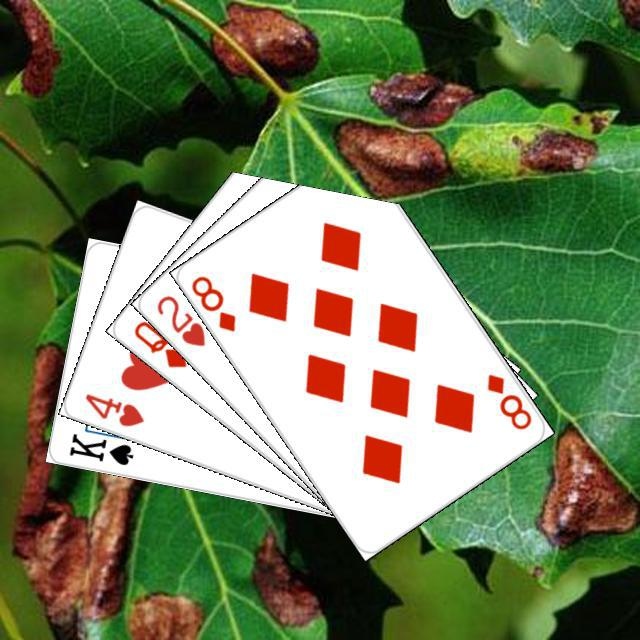2h: (151, 290, 207, 349)
4h: (80, 388, 146, 429)
8d: (186, 270, 238, 334), (482, 369, 534, 432)
Ks: (64, 428, 135, 467)
Qd: (128, 316, 189, 370)
